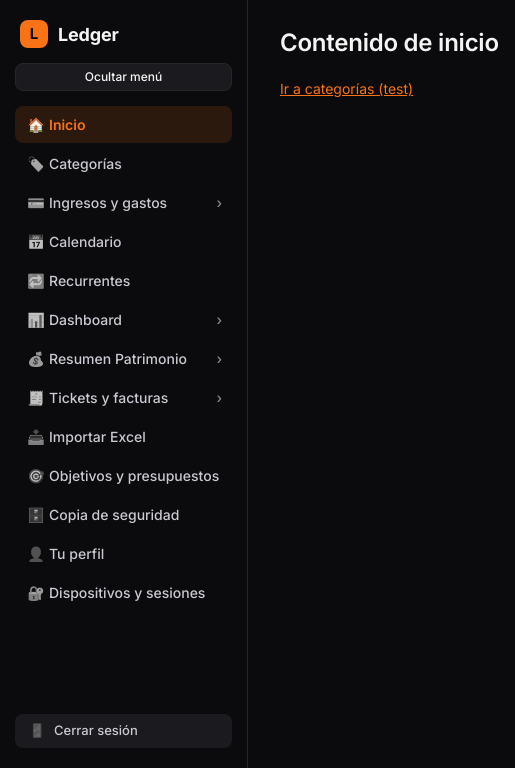
AppLayout › solo hay un submenú abierto a la vez: abrir otro cierra el anterior
Click the link "💳 Ingresos y gastos ›": (125, 203) [27,194,222,211]
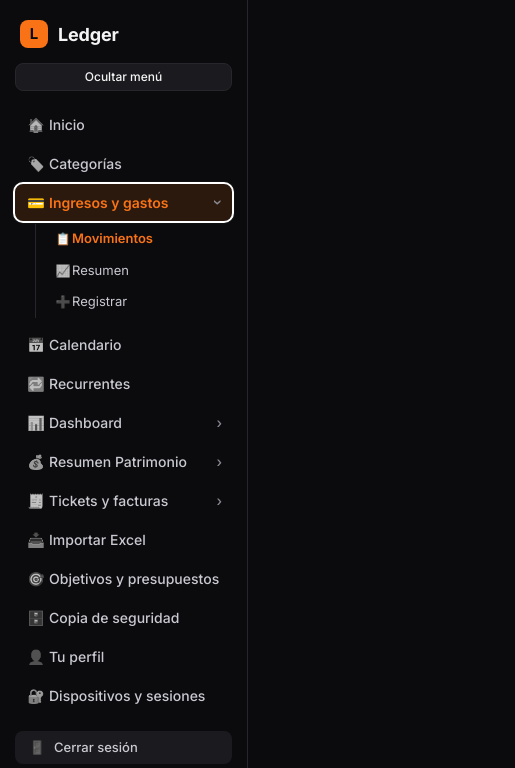
Expected: the link "📋 Movimientos" is shown, [56,230,153,246]
Click the link "📊 Dashboard ›": (125, 422) [27,414,222,431]
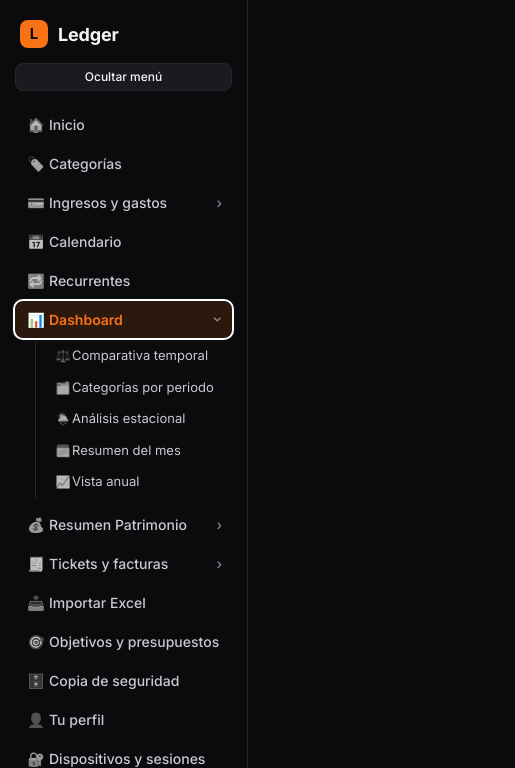
Expected: the link "⚖️ Comparativa temporal" is shown, [56,347,208,363]
Expected: the link "Movimientos" is gone
